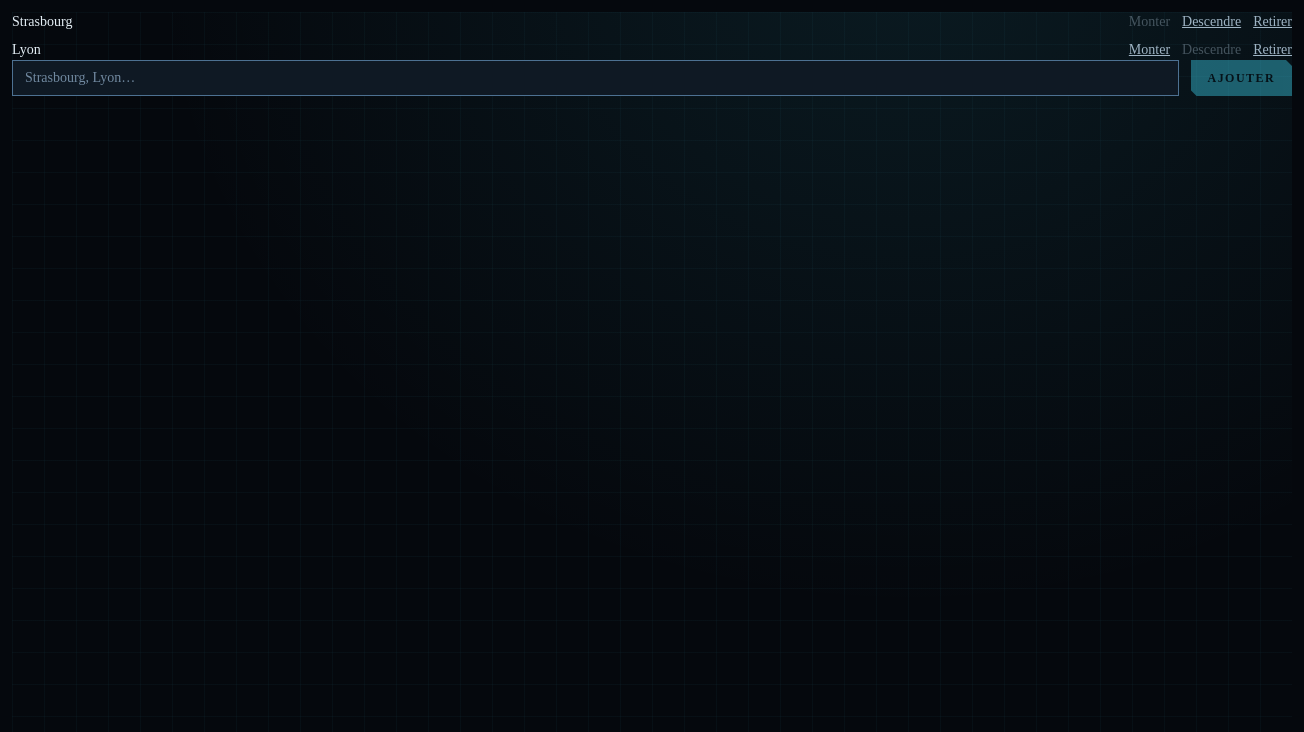
WeatherForms › Monter appelle moveCity avec l’id et la direction -1 et affiche « Ordre enregistré. »
The width and height of the screenshot is (1304, 732).
Click the button "Monter" in the row of "Lyon" at (1149, 50), box [1129,40,1170,60]
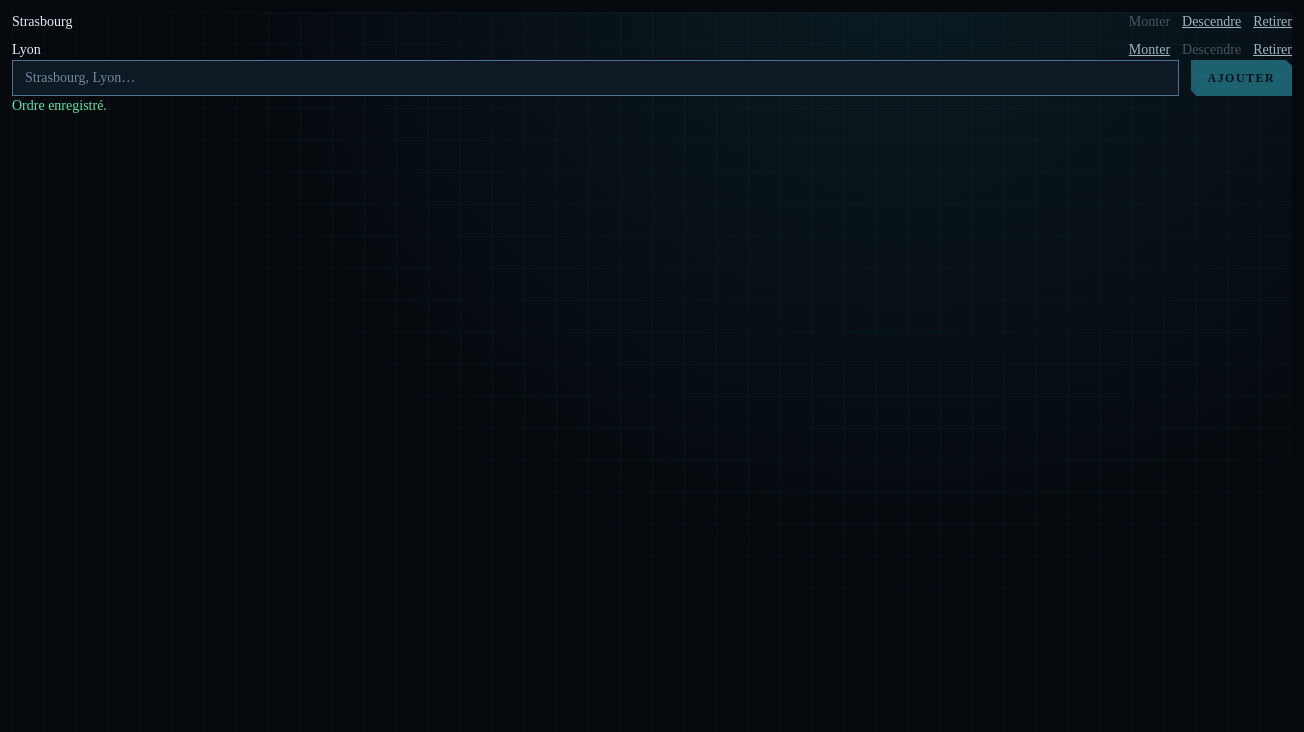
Check: the message reads "Ordre enregistré.", box [12,98,107,113]
